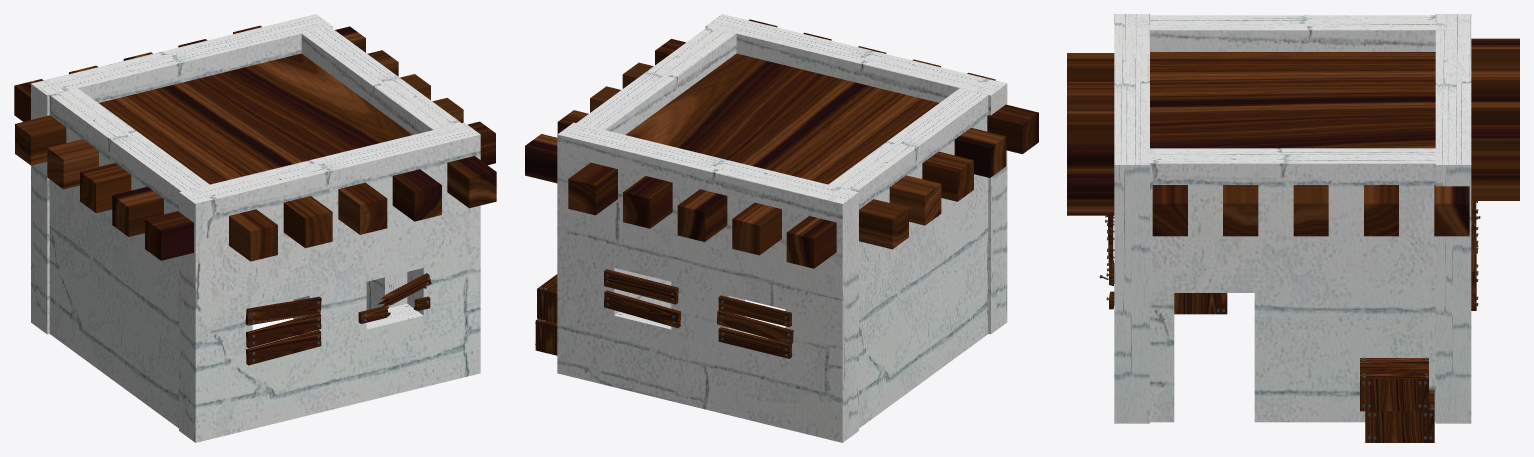
The model's file is House_S_3.fbx.
3 renders of one model, left to right at view 1: azimuth 30°, elevation 25°; view 2: azimuth 150°, elevation 25°; view 3: azimuth 270°, elevation 25°, orthographic. The views are drawn at different scales.
Parts seen in each view (by area): view 1: pCube1, pCube5, pCube3, pCube2, pCube4, pCube20, pCube22, pCube19, pCube18; view 2: pCube2, pCube5, pCube3, pCube1, pCube4, pCube14, pCube13, pCube10, pCube9, pCube11, pCube21, pCube8; view 3: pCube4, pCube5, pCube1, pCube2, pCube3, pCube21, pCube8, pCube7.
Boxes of the visible parts, bbox=[...] form: pCube1: bbox=[179, 122, 480, 442]; pCube5: bbox=[14, 25, 496, 261]; pCube3: bbox=[41, 83, 209, 428]; pCube2: bbox=[31, 14, 332, 334]; pCube4: bbox=[293, 20, 468, 309]; pCube20: bbox=[245, 296, 321, 325]; pCube22: bbox=[246, 330, 321, 365]; pCube19: bbox=[246, 313, 321, 348]; pCube18: bbox=[377, 273, 431, 306]; pCube2: bbox=[557, 122, 858, 442]; pCube5: bbox=[525, 19, 1038, 268]; pCube3: bbox=[828, 83, 988, 428]; pCube1: bbox=[705, 14, 1007, 334]; pCube4: bbox=[568, 22, 740, 308]; pCube14: bbox=[604, 290, 680, 328]; pCube13: bbox=[604, 269, 678, 304]; pCube10: bbox=[717, 310, 793, 344]; pCube9: bbox=[718, 295, 791, 326]; pCube11: bbox=[718, 327, 791, 358]; pCube21: bbox=[537, 274, 557, 323]; pCube8: bbox=[535, 319, 557, 355]; pCube4: bbox=[1134, 148, 1454, 422]; pCube5: bbox=[1067, 38, 1519, 236]; pCube1: bbox=[1114, 14, 1149, 423]; pCube2: bbox=[1435, 14, 1471, 423]; pCube3: bbox=[1134, 15, 1455, 51]; pCube21: bbox=[1360, 358, 1428, 411]; pCube8: bbox=[1365, 389, 1434, 442]; pCube7: bbox=[1174, 293, 1227, 314].
Bounding box in the file's own units: 12.59 × 8.02 × 12.68.
